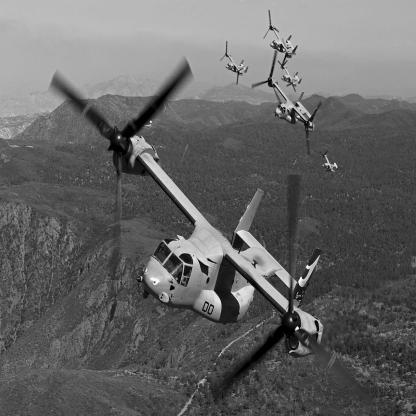V22: (48, 56, 375, 407), (253, 51, 324, 158), (264, 11, 299, 70), (221, 42, 250, 86), (278, 60, 303, 94), (321, 150, 341, 180)
